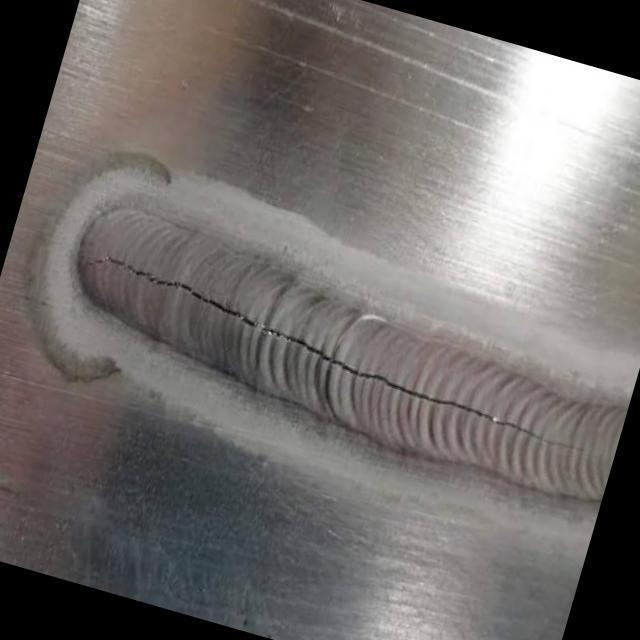defect: (75, 246, 591, 454)
